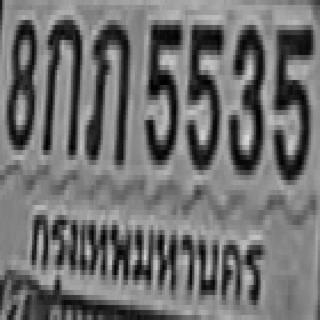A01: (41, 15, 80, 150)
A32: (84, 15, 128, 160)
N03: (226, 20, 263, 170)
N05: (272, 18, 311, 178), (185, 20, 222, 165), (144, 15, 180, 160)
N08: (5, 15, 34, 145)
P04: (23, 200, 268, 309)
